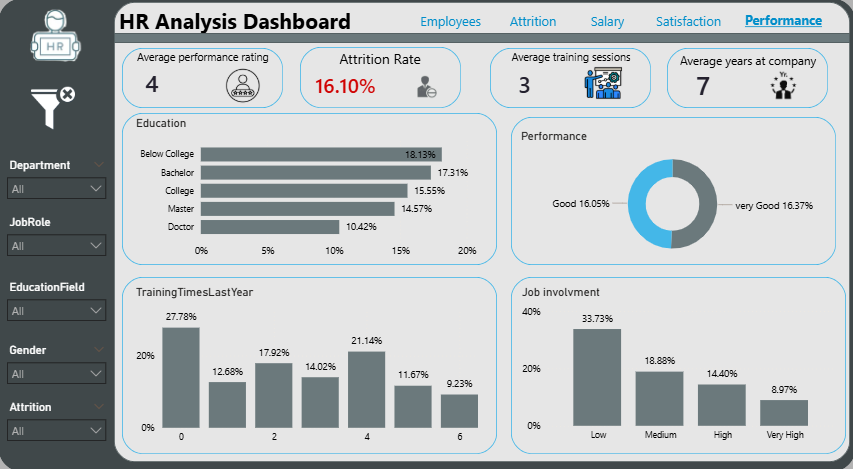

The dashboard page shown, as its layout file describes it:
{"tool":"powerbi","page":{"name":" performance","canvas":[1070,590],"ordinal":4},"visuals":[{"type":"shape","box":[0,0,1070,590],"z":0},{"type":"shape","box":[143.8,3.8,920,575],"z":1000},{"type":"shape","box":[640,347.5,418.8,221.2],"z":2000},{"type":"textbox","title":"  HR  Analytics","box":[137.5,3.8,362.5,47.5],"z":3000},{"type":"image","box":[11.2,10,117.5,70],"z":4000},{"type":"shape","box":[143.8,42.5,920,12.5],"z":5000},{"type":"shape","box":[835,61.2,201.2,75],"z":6000},{"type":"shape","box":[376.2,60,201.2,76.2],"z":7000},{"type":"shape","box":[153.8,61.2,201.2,75],"z":8000},{"type":"shape","box":[613.8,61.2,201.2,75],"z":9000},{"type":"cardVisual","fields":{"Data":["_measures table.Average training sessions"]},"box":[620,72.5,85,63.8],"z":12000},{"type":"cardVisual","fields":{"Data":["_measures table.Average performance rating"]},"box":[153.8,65,85,75],"z":13000},{"type":"shape","box":[640,147.5,406.2,185],"z":14000},{"type":"shape","box":[153.8,347.5,468.8,221.2],"z":15000},{"type":"columnChart","title":"TrainingTimesLastYear","fields":{"Category":["Fact_employee.TrainingTimesLastYear"],"Y":["_measures table.Attrition Rate"]},"box":[166.2,358.8,437.5,206.2],"z":16000},{"type":"columnChart","title":"Job involvment","fields":{"Category":["dim_job involvment.Job Involvement Category"],"Y":["_measures table.Attrition Rate"]},"box":[648.8,358.8,401.2,203.8],"z":17000},{"type":"shape","box":[153.8,142.5,468.8,190],"z":18000},{"type":"donutChart","title":"Performance","fields":{"Category":["dim_performance rating.Performance Rating Cetegory"],"Y":["_measures table.Attrition Rate"]},"box":[647.5,163.8,388.8,168.8],"z":19000},{"type":"clusteredBarChart","title":"Education","fields":{"Category":["dim_education.Education Category"],"Y":["_measures table.Attrition Rate"]},"box":[166.2,147.5,448.8,185],"z":20000},{"type":"slicer","fields":{"Values":["dim_department.Department"]},"box":[0,195,143.8,56.2],"z":21000},{"type":"slicer","fields":{"Values":["dim_job role.JobRole"]},"box":[0,266.2,143.8,56.2],"z":22000},{"type":"slicer","fields":{"Values":["dim_education field.EducationField"]},"box":[0,347.5,143.8,56.2],"z":23000},{"type":"slicer","fields":{"Values":["dim_employee.Gender"]},"box":[0,426.2,143.8,56.2],"z":24000},{"type":"slicer","fields":{"Values":["Fact_employee.Attrition"]},"box":[0,497.5,143.8,56.2],"z":25000},{"type":"image","box":[25,108.8,85,55],"z":26000},{"type":"shape","box":[925,10,111.2,32.5],"z":27000},{"type":"shape","box":[798.8,10,126.2,35],"z":28000},{"type":"shape","box":[722.5,10,76.2,35],"z":29000},{"type":"shape","box":[620,10,95,35],"z":30000},{"type":"shape","box":[508.8,10,111.2,35],"z":31000},{"type":"cardVisual","fields":{"Data":["_measures table.Average years at company"]},"box":[842.5,72.5,75,65],"z":31001},{"type":"cardVisual","fields":{"Data":["_measures table.Attrition Rate"]},"box":[366.2,72.5,142.5,67.5],"z":31002},{"type":"shape","box":[387.5,57.5,177.5,33.8],"z":31003},{"type":"image","box":[485,86.2,100,40],"z":31004},{"type":"shape","box":[847.5,60,177.5,33.8],"z":31005},{"type":"image","box":[927.5,88.8,106.2,41.2],"z":31006},{"type":"image","box":[255,86.2,100,43.8],"z":31007},{"type":"shape","box":[166.2,55,177.5,33.8],"z":31008},{"type":"shape","box":[626.2,55,177.5,33.8],"z":31009},{"type":"image","box":[712.5,80,86.2,50],"z":31010}]}

Visuals, with their boxes in screenshot pixels (x1, y1, x2, y2), scaled from the page's 1070x590 canvas onto the 853x469 screenshot:
shape: (0, 0, 852, 468)
shape: (115, 3, 848, 460)
shape: (510, 276, 844, 452)
"  HR  Analytics" textbox: (110, 3, 399, 41)
image: (9, 8, 103, 64)
shape: (115, 34, 848, 44)
shape: (666, 49, 826, 108)
shape: (300, 48, 460, 108)
shape: (123, 49, 283, 108)
shape: (489, 49, 650, 108)
cardVisual - _measures table.Average training sessions: (494, 58, 562, 108)
cardVisual - _measures table.Average performance rating: (123, 52, 190, 111)
shape: (510, 117, 834, 264)
shape: (123, 276, 496, 452)
"TrainingTimesLastYear" columnChart: (132, 285, 481, 449)
"Job involvment" columnChart: (517, 285, 837, 447)
shape: (123, 113, 496, 264)
"Performance" donutChart: (516, 130, 826, 264)
"Education" clusteredBarChart: (132, 117, 490, 264)
slicer - dim_department.Department: (0, 155, 115, 200)
slicer - dim_job role.JobRole: (0, 212, 115, 256)
slicer - dim_education field.EducationField: (0, 276, 115, 321)
slicer - dim_employee.Gender: (0, 339, 115, 383)
slicer - Fact_employee.Attrition: (0, 395, 115, 440)
image: (20, 86, 88, 130)
shape: (737, 8, 826, 34)
shape: (637, 8, 737, 36)
shape: (576, 8, 637, 36)
shape: (494, 8, 570, 36)
shape: (406, 8, 494, 36)
cardVisual - _measures table.Average years at company: (672, 58, 731, 109)
cardVisual - _measures table.Attrition Rate: (292, 58, 406, 111)
shape: (309, 46, 450, 73)
image: (387, 69, 466, 100)
shape: (676, 48, 817, 75)
image: (739, 71, 824, 103)
image: (203, 69, 283, 103)
shape: (132, 44, 274, 71)
shape: (499, 44, 641, 71)
image: (568, 64, 637, 103)
